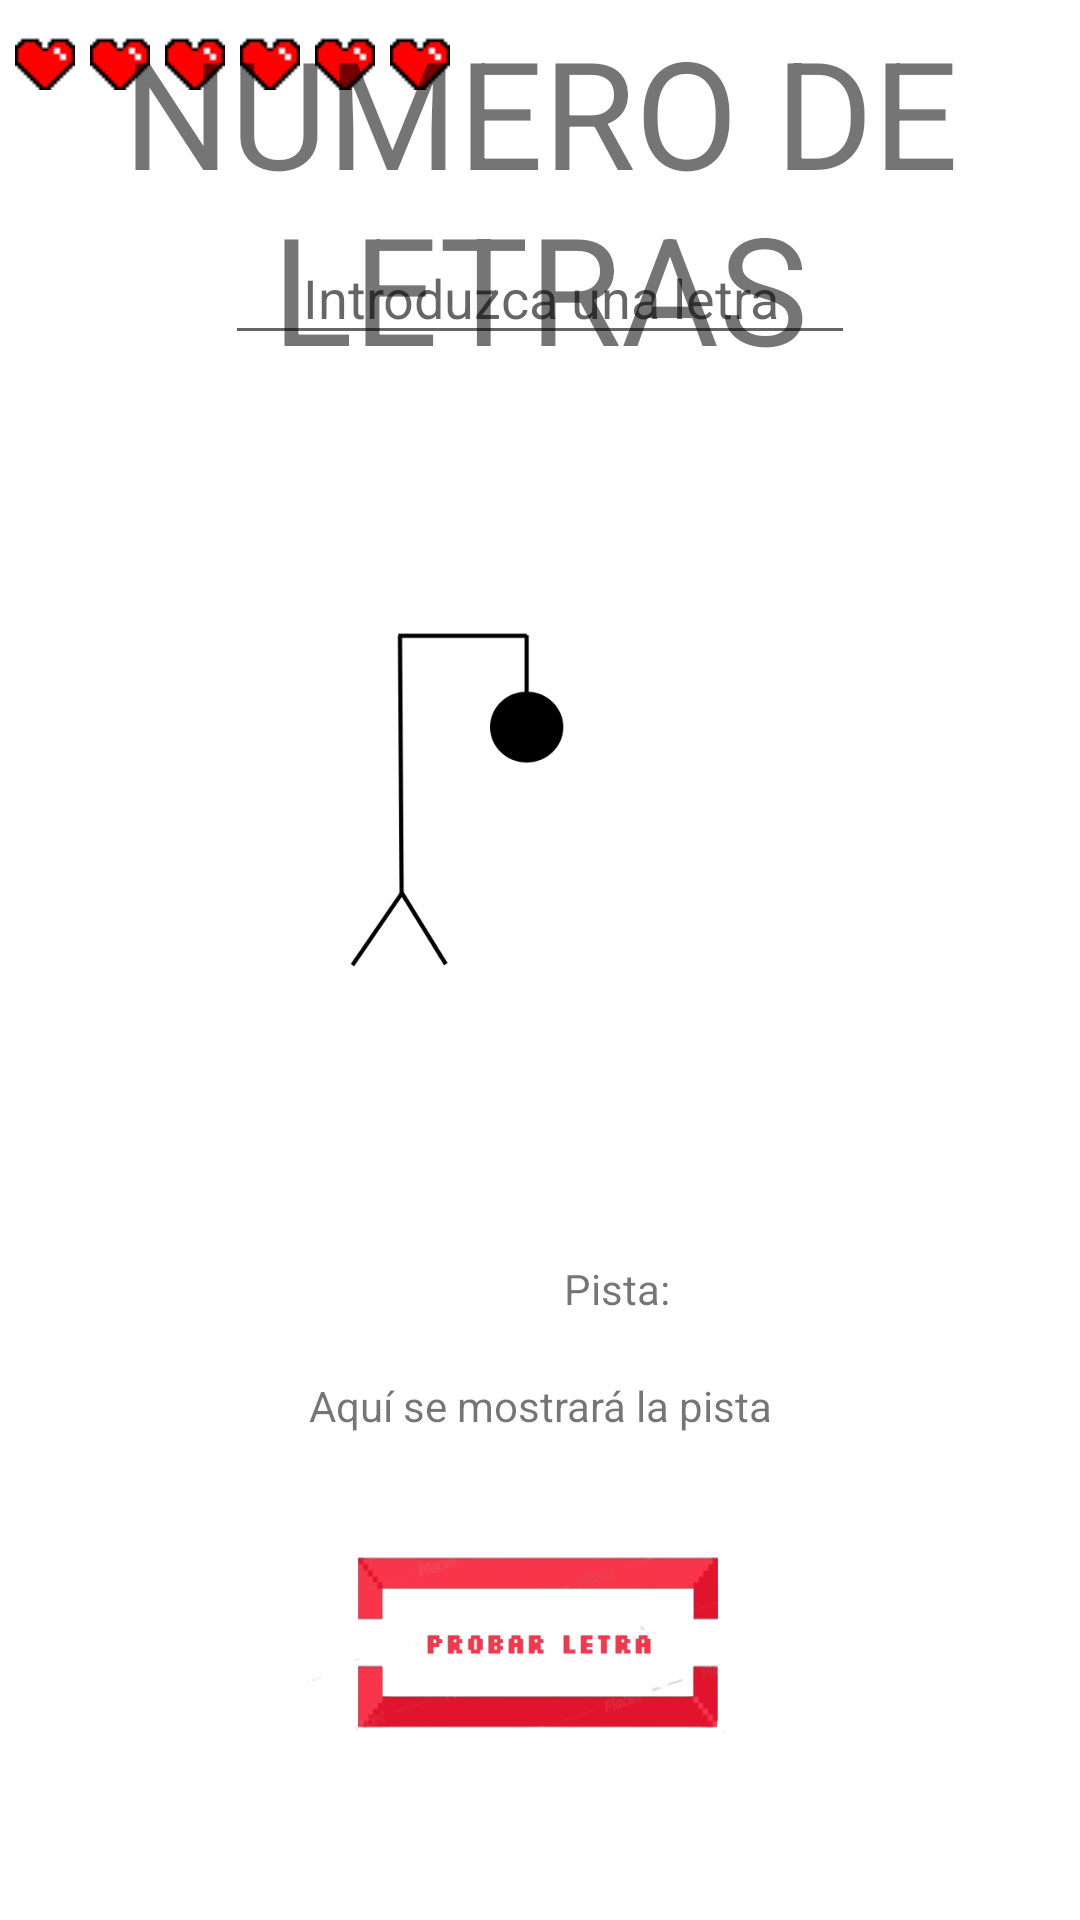

Where icons sit on this 1080×1920 app screen, as (x1, y1, x2, y2):
life: (15, 38, 75, 90), (90, 38, 150, 90), (165, 38, 225, 90), (240, 38, 300, 90), (315, 38, 375, 90), (390, 38, 450, 90)
